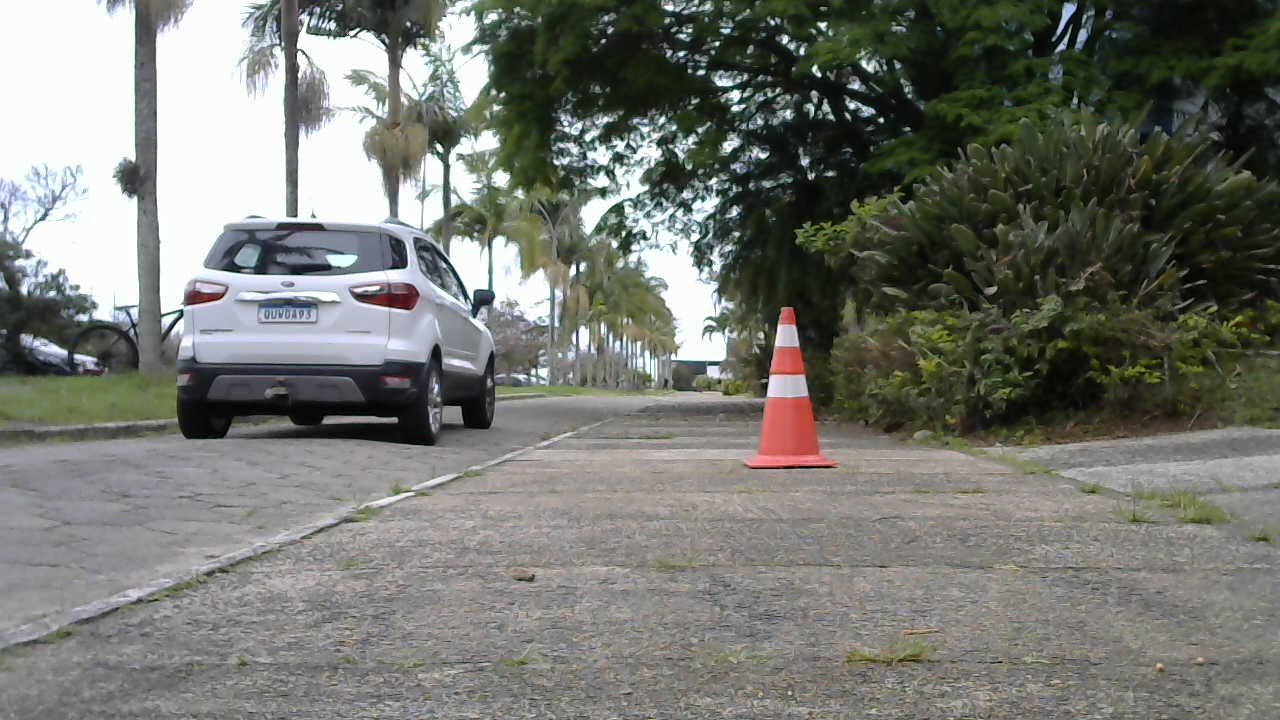cone: (746, 300, 834, 471)
